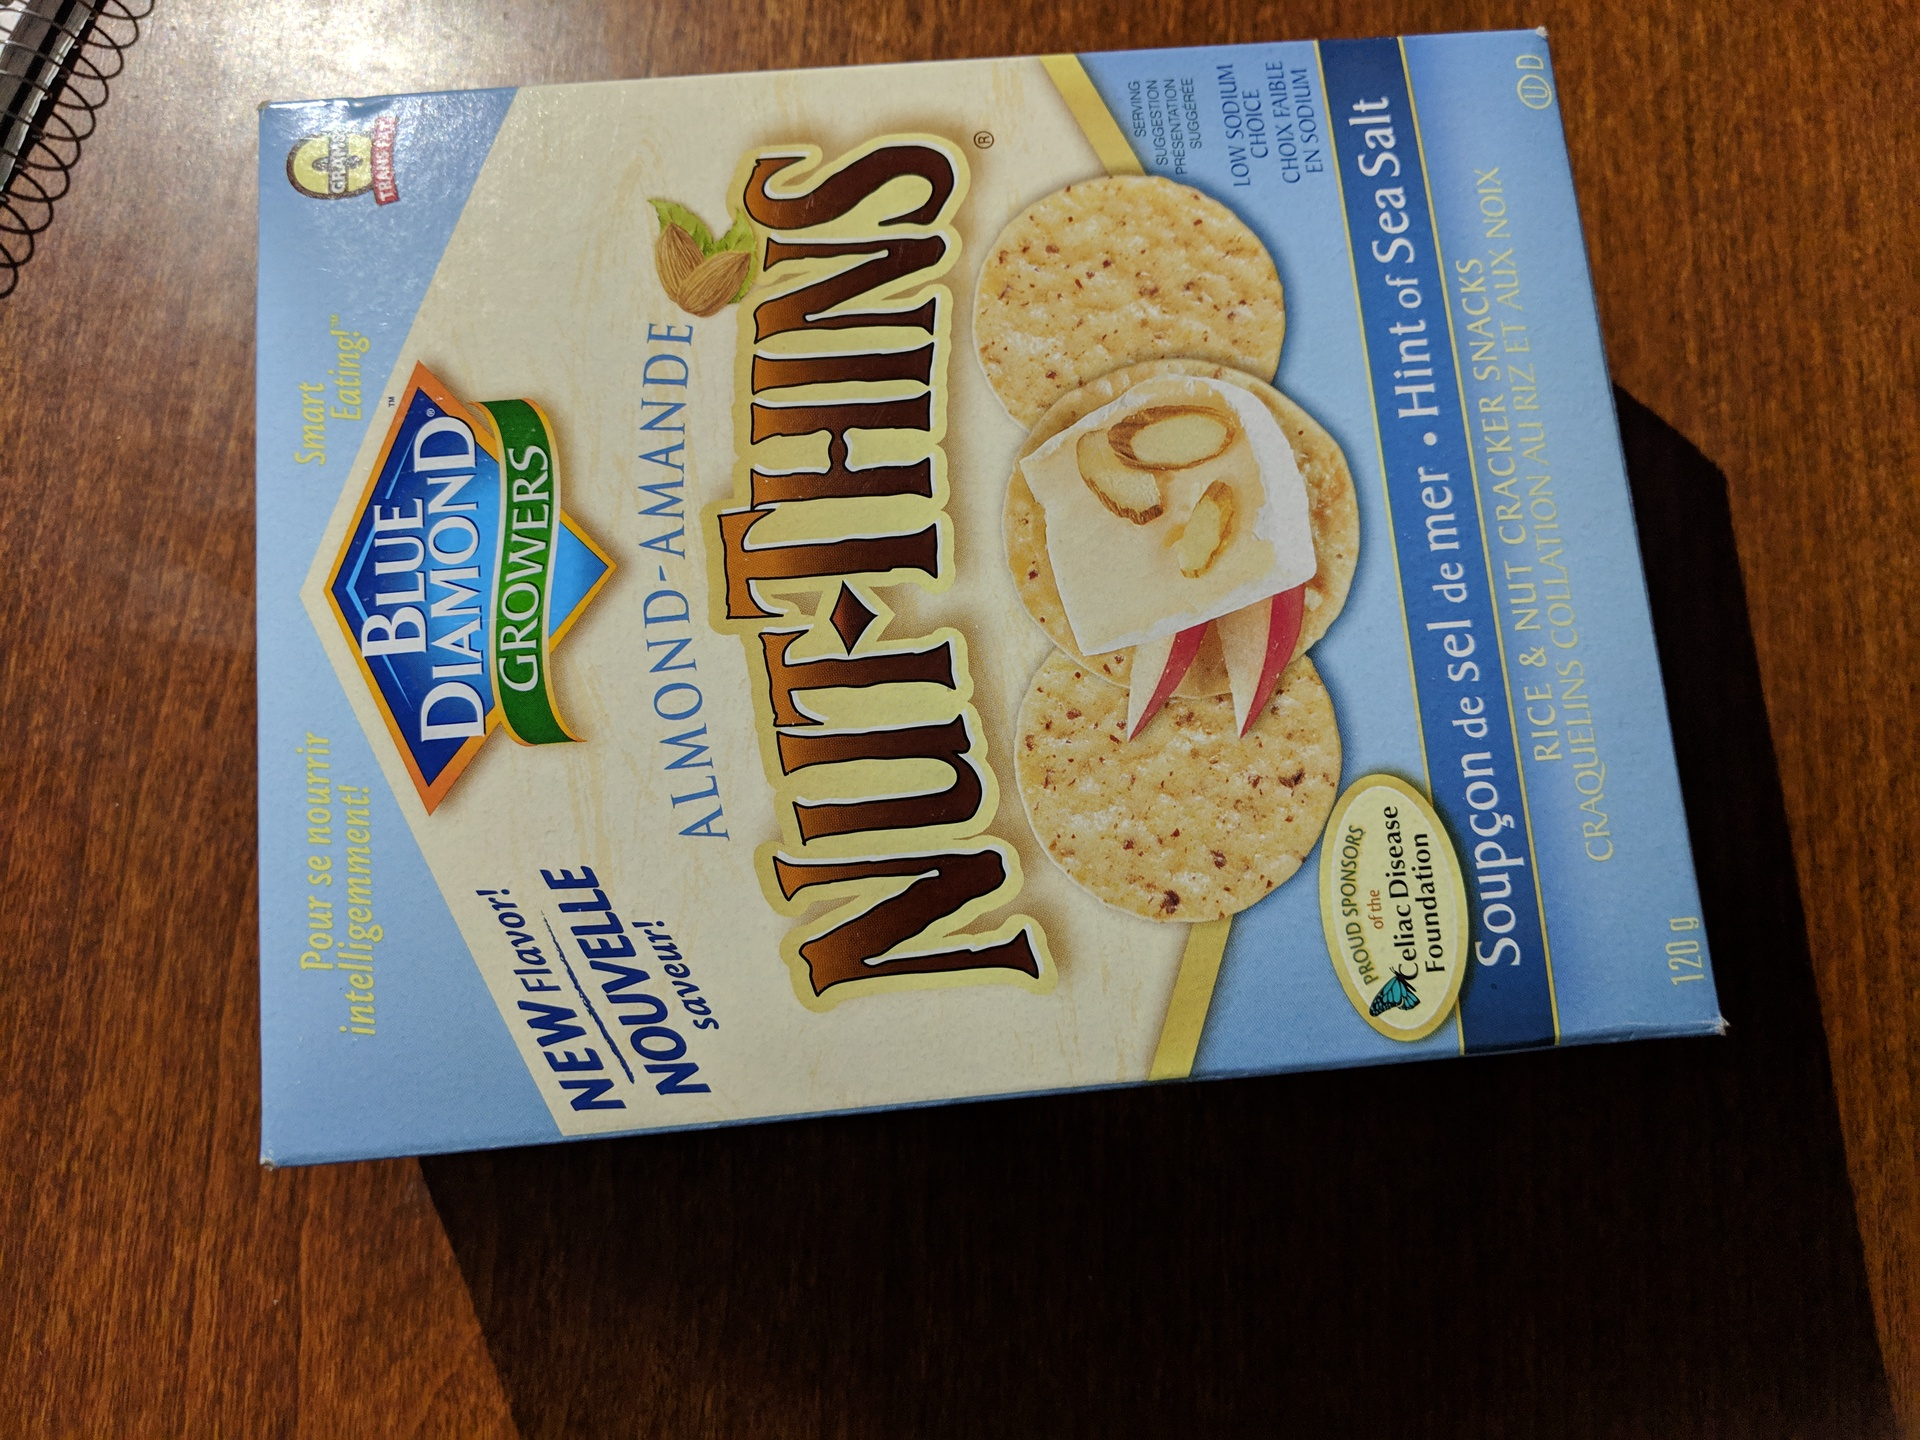blue_diamond_nut_thins_almond_seasalt: (269, 97, 1553, 1032)
